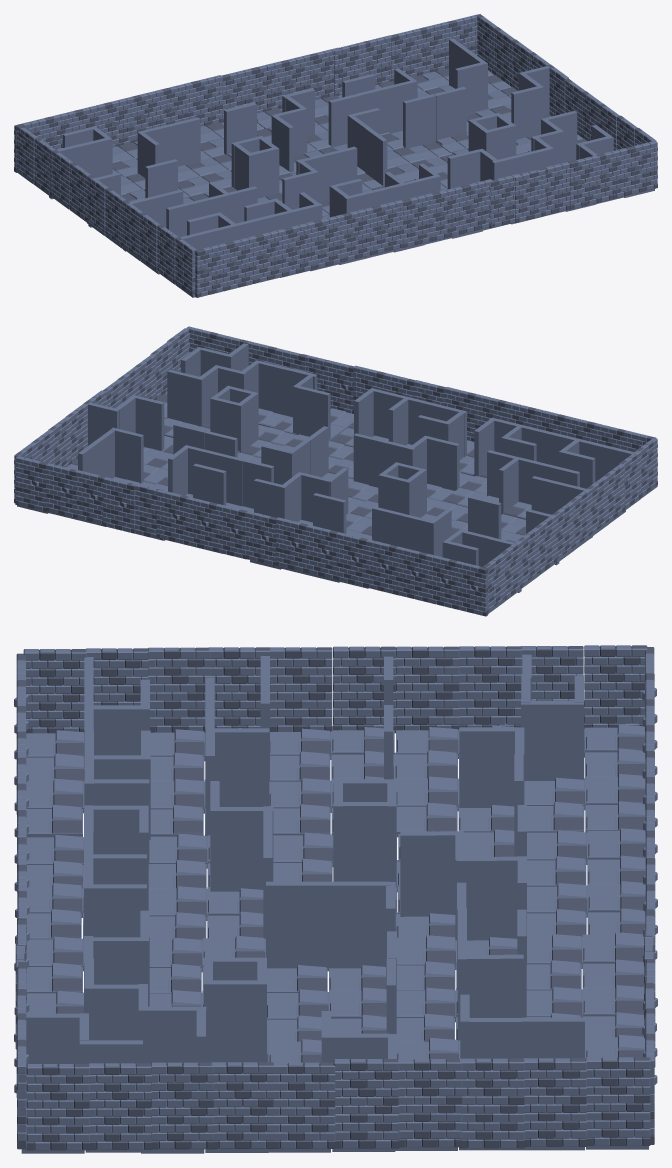
File: LabirintLevel1.fbx
The picture shows the model from 3 angles, top to bottom: view 1: azimuth 30°, elevation 25°; view 2: azimuth 150°, elevation 25°; view 3: azimuth 270°, elevation 25°; orthographic projection. The views are drawn at different scales.
Parts seen in each view (by area): view 1: floor.019, floor.010, floor.021, floor.006, smooth wall.009, brick wall.046, brick wall.032, brick wall.034, brick wall.039, brick wall.047, brick wall.040, smooth wall.060 (+93 smaller); view 2: floor.010, floor.019, floor.021, brick wall.020, floor.006, brick wall.009, brick wall.006, smooth wall.029, brick wall.014, brick wall.015, brick wall.011, brick wall.007 (+104 smaller); view 3: floor.006, floor.019, floor.010, floor.027, brick wall.052, brick wall.048, floor.021, brick wall.050, brick wall.051, brick wall.049, brick wall.055, brick wall.057 (+52 smaller).
Boxes of the visible parts, <box> form: floor.019: <box>257,95,453,192</box>; floor.010: <box>133,122,329,218</box>; floor.021: <box>375,68,586,162</box>; floor.006: <box>17,142,207,274</box>; smooth wall.009: <box>403,94,435,148</box>; brick wall.046: <box>195,243,227,297</box>; brick wall.032: <box>626,141,657,195</box>; brick wall.034: <box>568,155,600,209</box>; brick wall.039: <box>402,193,433,247</box>; brick wall.047: <box>515,169,545,223</box>; brick wall.040: <box>371,200,403,254</box>; smooth wall.060: <box>511,86,543,139</box>; floor.010: <box>250,472,486,588</box>; floor.019: <box>164,427,354,553</box>; floor.021: <box>17,400,269,526</box>; brick wall.020: <box>455,561,488,616</box>; floor.006: <box>377,495,625,613</box>; brick wall.009: <box>103,477,134,533</box>; brick wall.006: <box>15,456,47,512</box>; smooth wall.029: <box>426,436,459,490</box>; brick wall.014: <box>275,517,307,572</box>; brick wall.015: <box>306,525,337,580</box>; brick wall.011: <box>185,497,216,551</box>; brick wall.007: <box>46,463,76,518</box>; floor.006: <box>150,724,645,837</box>; floor.019: <box>149,932,643,1041</box>; floor.010: <box>148,828,645,940</box>; floor.027: <box>26,834,83,993</box>; brick wall.052: <box>333,1059,399,1148</box>; brick wall.048: <box>585,1057,650,1145</box>; floor.021: <box>141,1034,648,1153</box>; brick wall.050: <box>459,1058,524,1148</box>; brick wall.051: <box>397,1059,462,1147</box>; brick wall.049: <box>523,1058,586,1146</box>; brick wall.055: <box>151,1062,214,1149</box>; brick wall.057: <box>26,1064,89,1150</box>.
Bounding box in the file's own units: 3274 × 355 × 2144.
